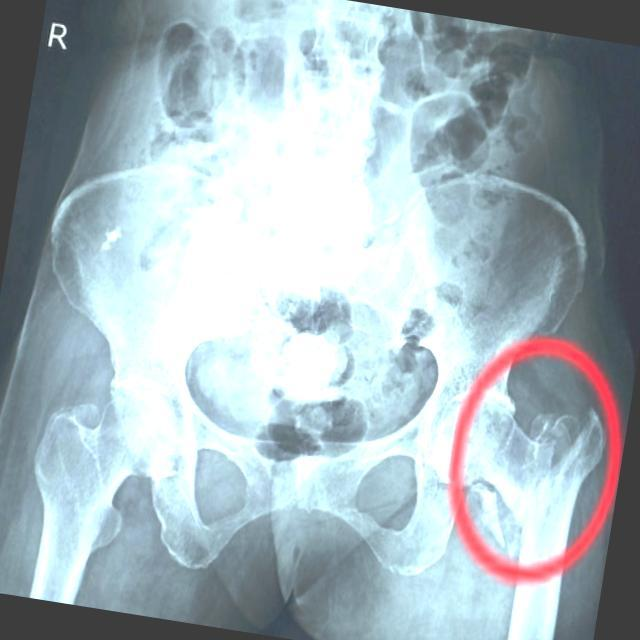Comminuted Fracture: (488, 376, 608, 491)
